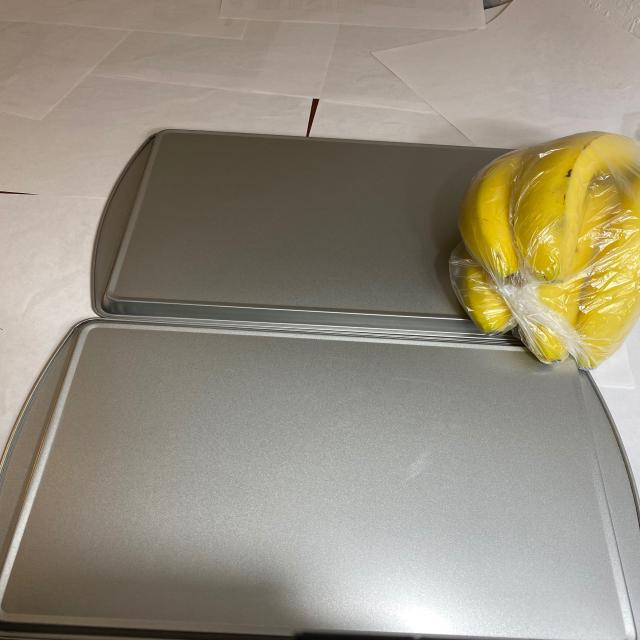banana: (447, 127, 640, 379)
